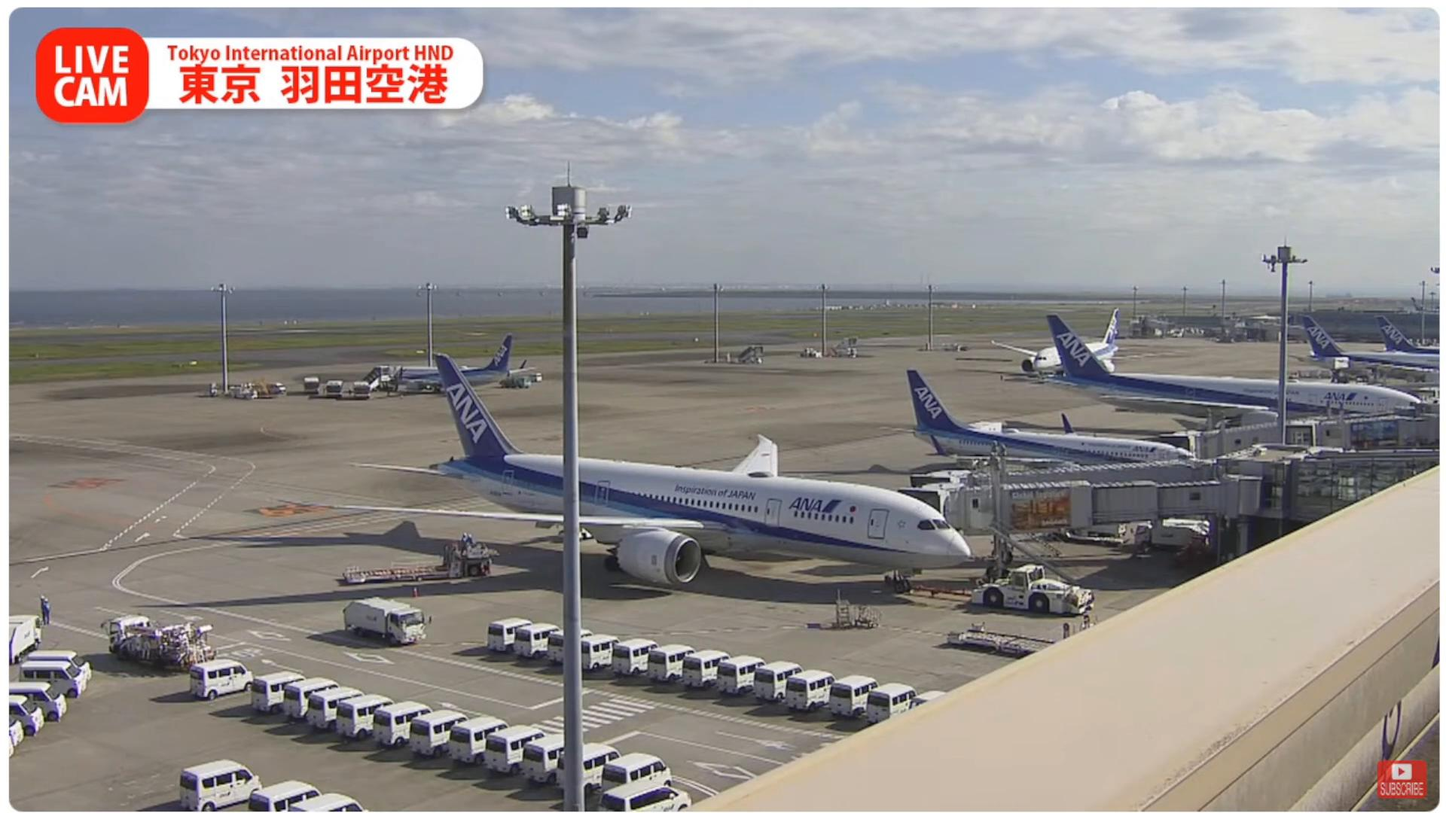APS: (969, 564, 1106, 619)
Aerobridge: (899, 476, 1264, 540), (843, 457, 1217, 496)
Airplane: (330, 354, 973, 599)
Baggage truck: (338, 591, 433, 649)
JCPL: (335, 541, 496, 585), (946, 622, 1056, 658)
Window: (1290, 456, 1440, 523)
